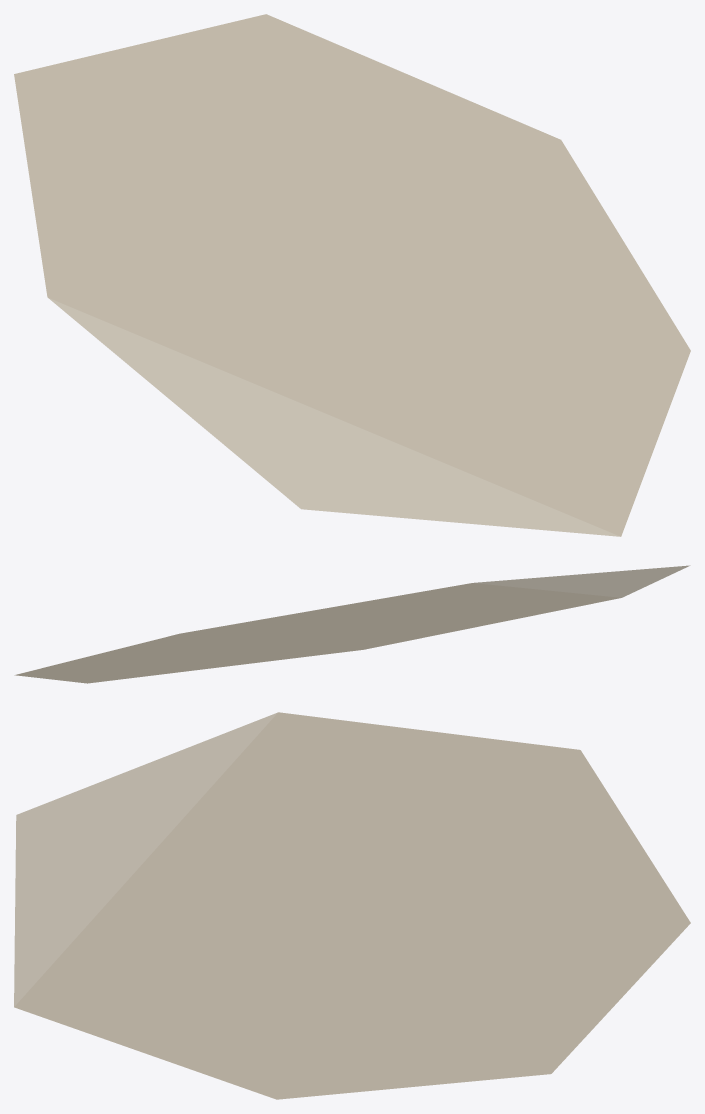
File: SM_MS3_Feed_Eco_01_0.fbx
The picture shows the model from 3 angles, top to bottom: view 1: azimuth 30°, elevation 25°; view 2: azimuth 150°, elevation 25°; view 3: azimuth 270°, elevation 25°; orthographic projection. The views are drawn at different scales.
Parts seen in each view (by area): view 1: SM_MS3_Feed_Eco_01_0; view 2: SM_MS3_Feed_Eco_01_0; view 3: SM_MS3_Feed_Eco_01_0.
Boxes of the visible parts, x1,y1,x2,y2 form: SM_MS3_Feed_Eco_01_0: (14,14,690,536); SM_MS3_Feed_Eco_01_0: (14,565,690,683); SM_MS3_Feed_Eco_01_0: (14,712,690,1099).
Bounding box in the file's own units: 2.19 × 2.49 × 0.7254.
